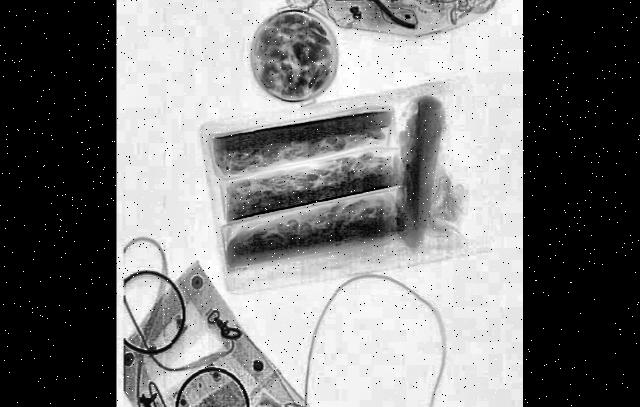Pliers: (334, 0, 420, 28)
